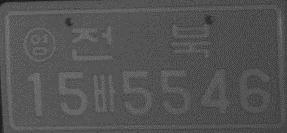1: (20, 71, 52, 118)
4: (198, 67, 230, 113)
5: (159, 68, 192, 116), (121, 69, 153, 115), (58, 71, 88, 115)
6: (237, 68, 271, 114)
바: (92, 72, 116, 114)
영: (21, 26, 56, 64)
전북_D: (69, 25, 211, 60)
